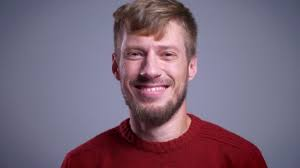white_male: (120, 14, 187, 131)
